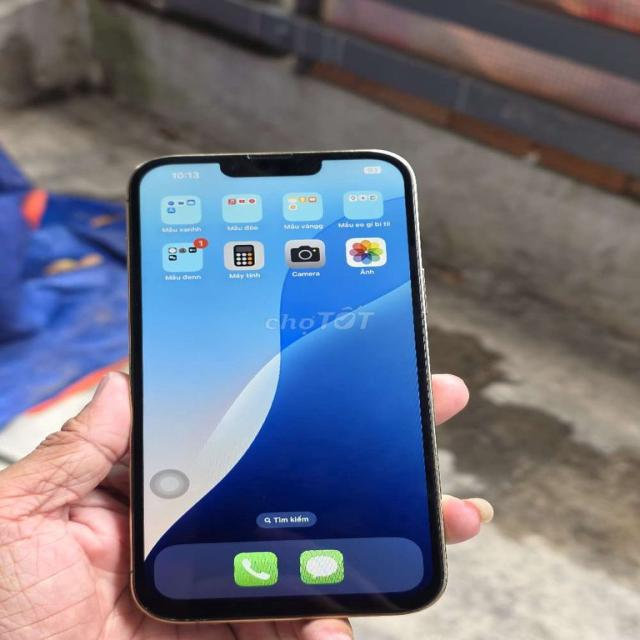gen_12_13: (120, 148, 456, 624)
